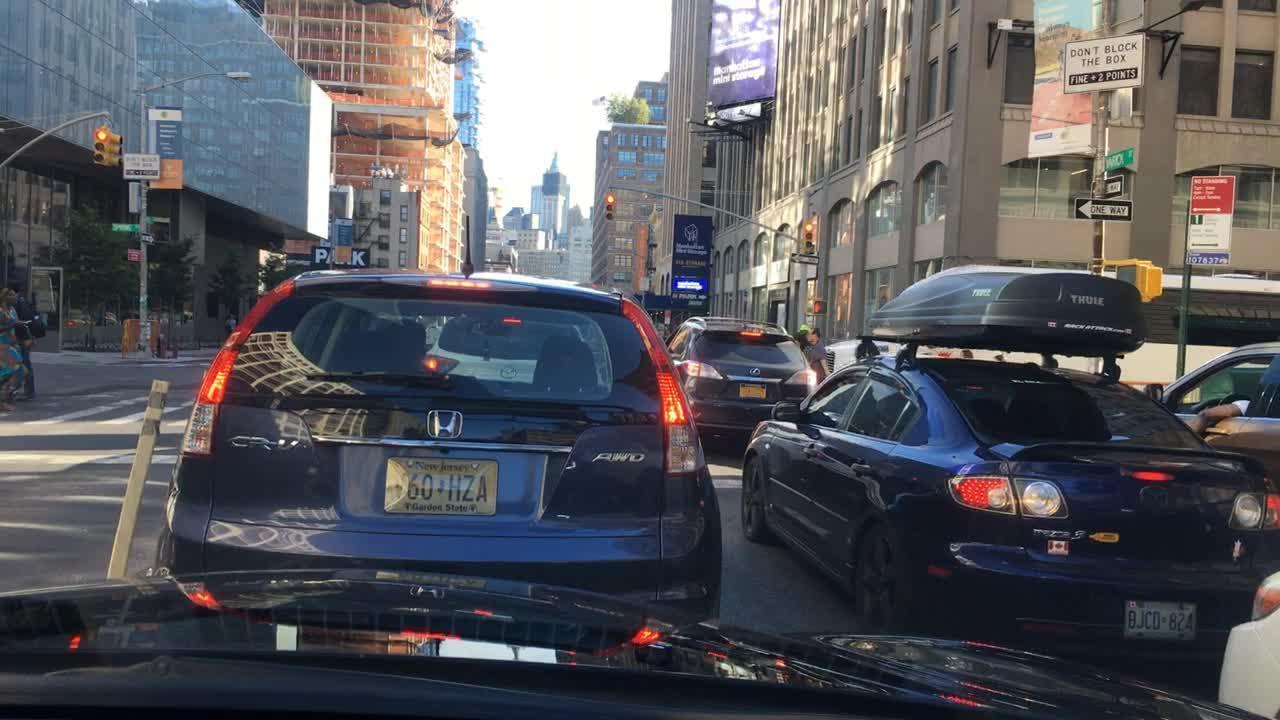Honda: (422, 403, 466, 444)
lexus: (746, 364, 764, 381)
